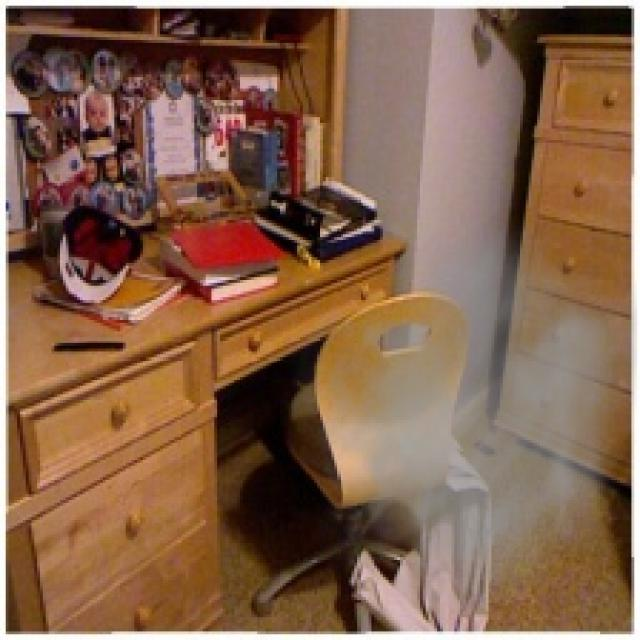smoke: (283, 208, 637, 628)
